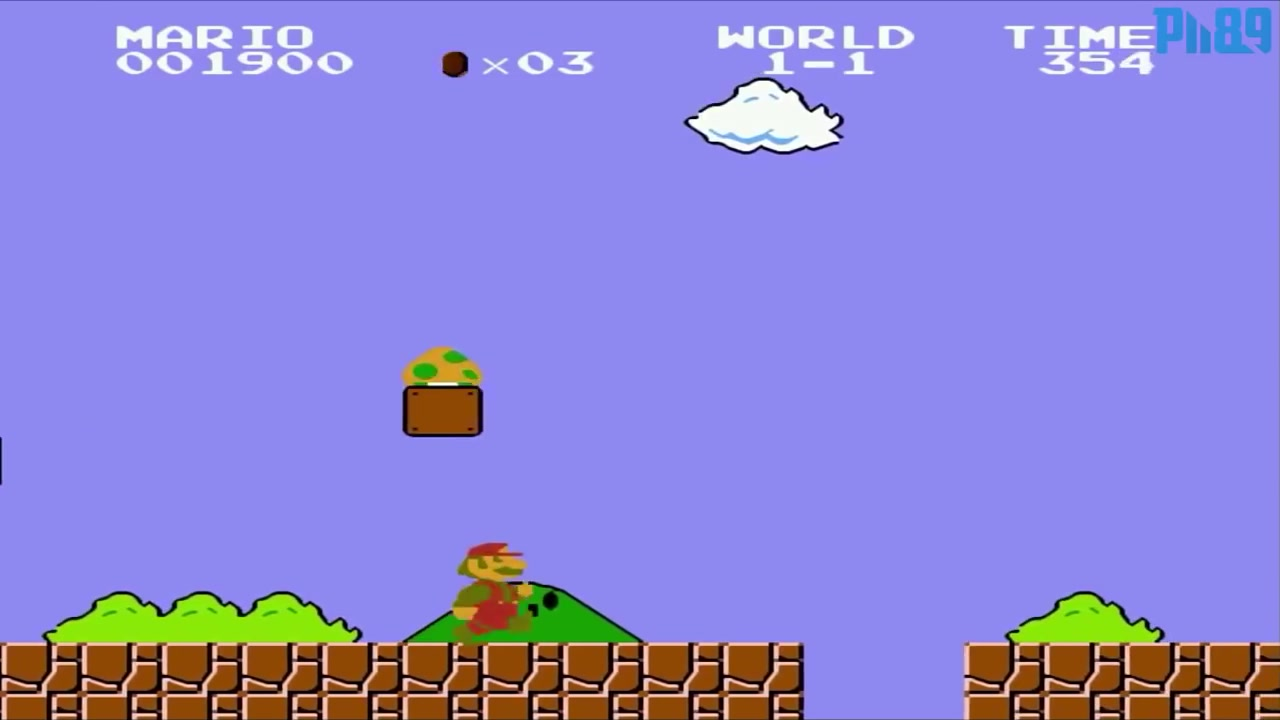mario: (448, 530, 533, 640)
